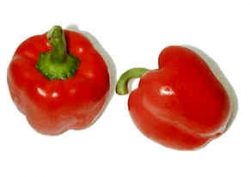capsicum: (3, 21, 111, 138), (121, 44, 230, 151)
